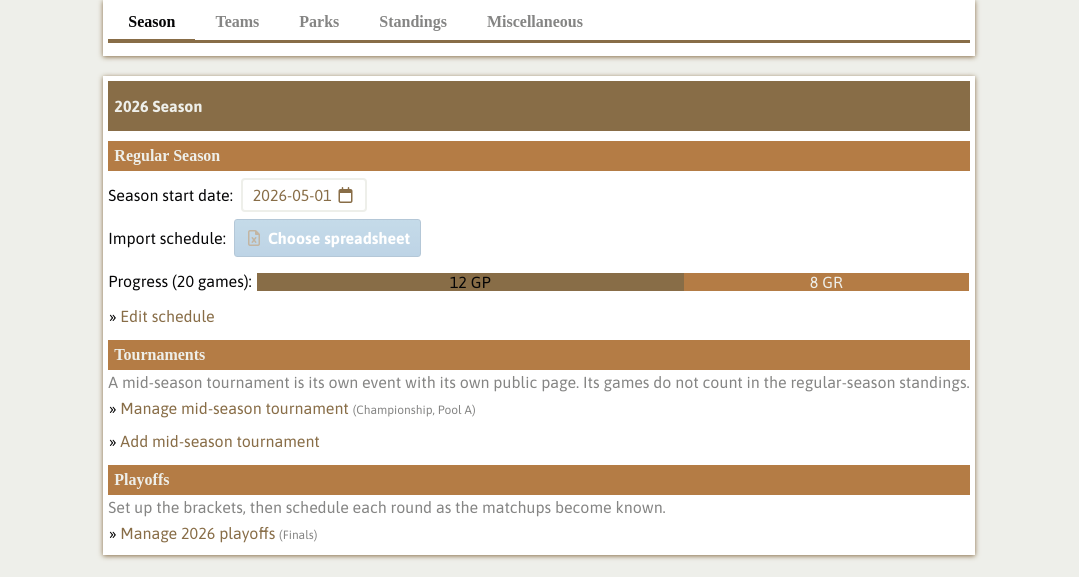
it: Executive Page › expander reveals inactive parks
Click the button "Parks": point(319, 24) [279, 5, 359, 43]
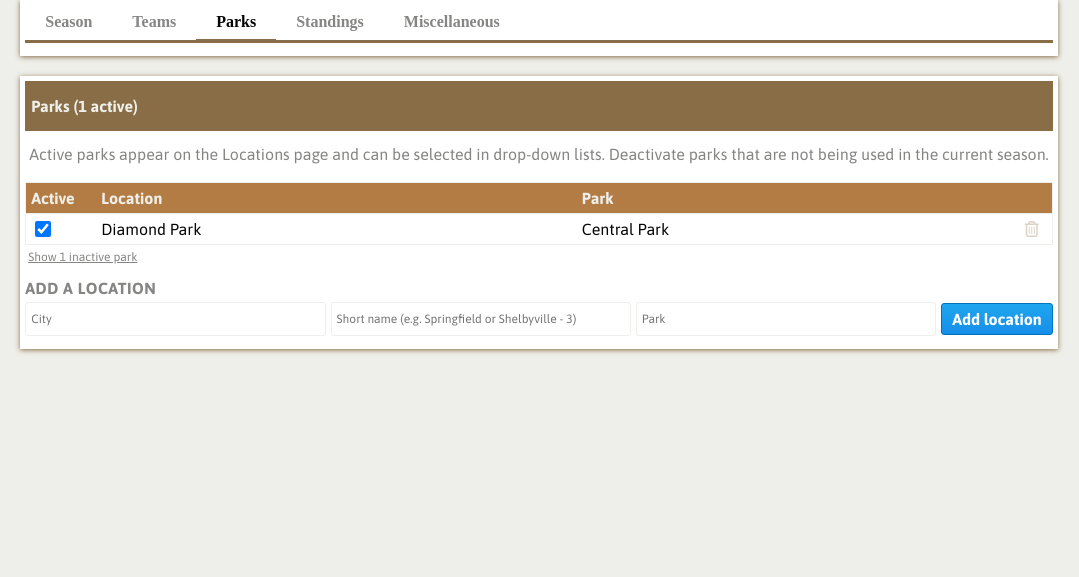
Click the button "Show 1 inactive park": point(83, 257) [25, 245, 140, 269]
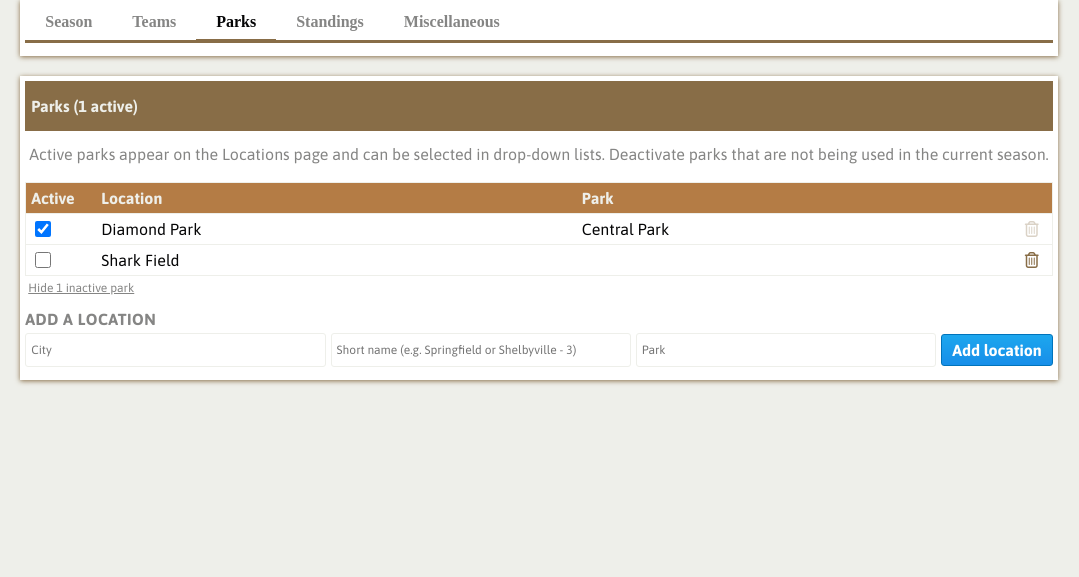
expect the text "Shark Field" is shown: met, box [96, 244, 577, 276]
